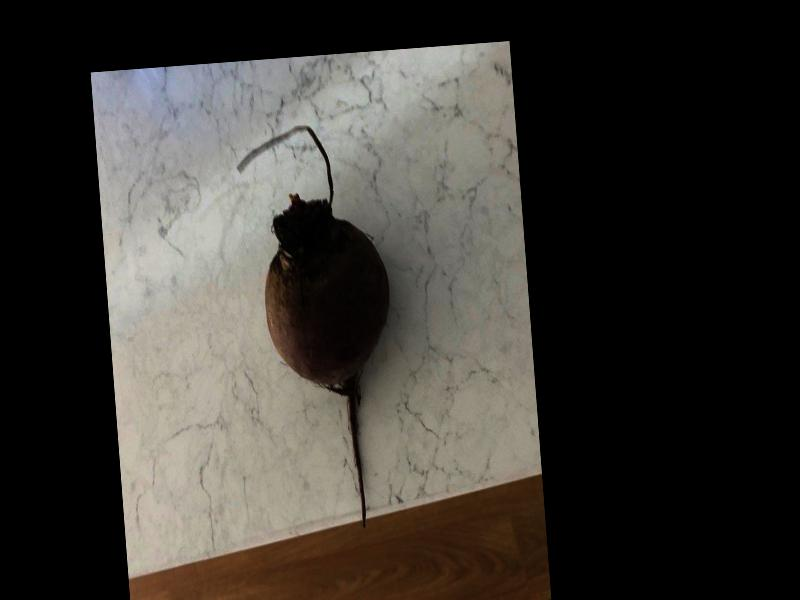Beet: (235, 122, 406, 536)
